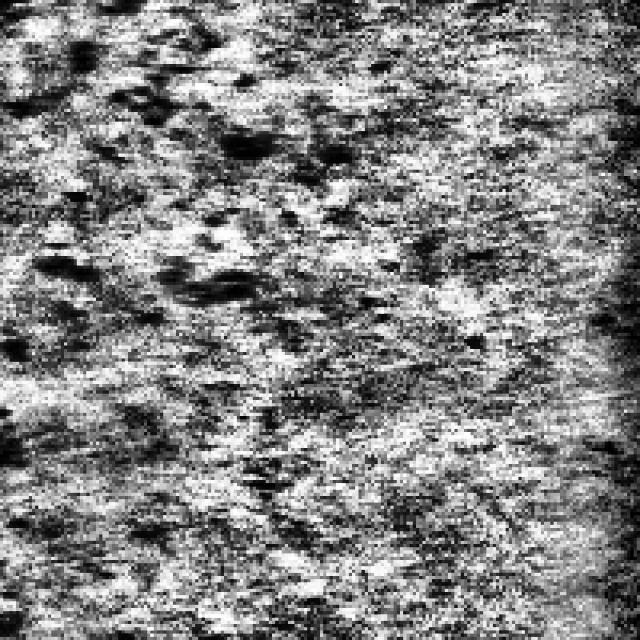Crazing: (10, 6, 256, 205), (3, 227, 256, 355)
